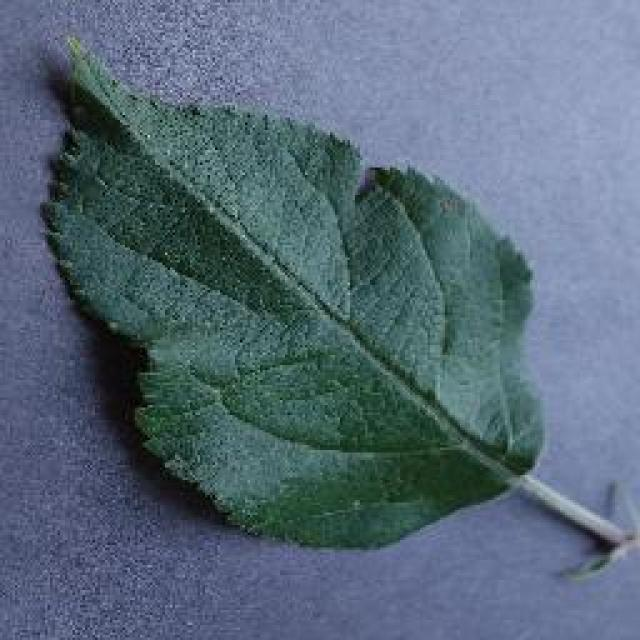Apple___healthy: (38, 35, 551, 557)
